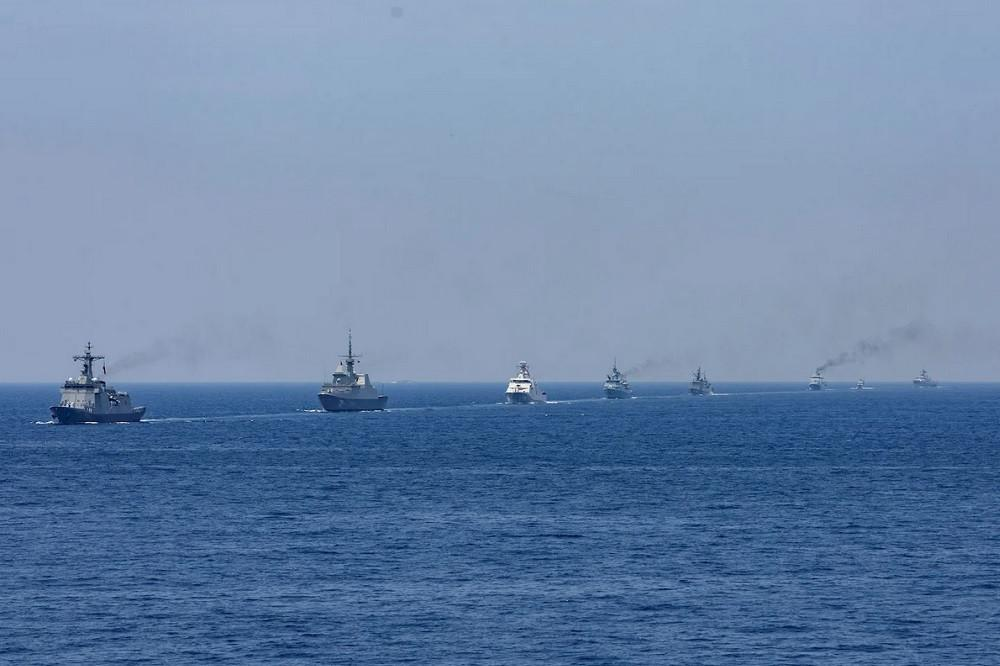MIL_Ship: (49, 341, 148, 425), (317, 327, 389, 415), (504, 358, 548, 405), (601, 358, 635, 402), (909, 365, 942, 392), (690, 365, 715, 398), (807, 368, 831, 393)
